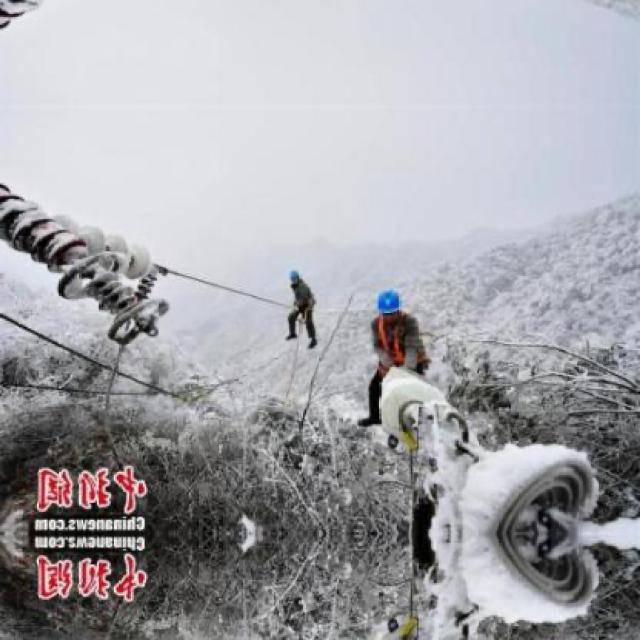con casco: (365, 259, 447, 334)
